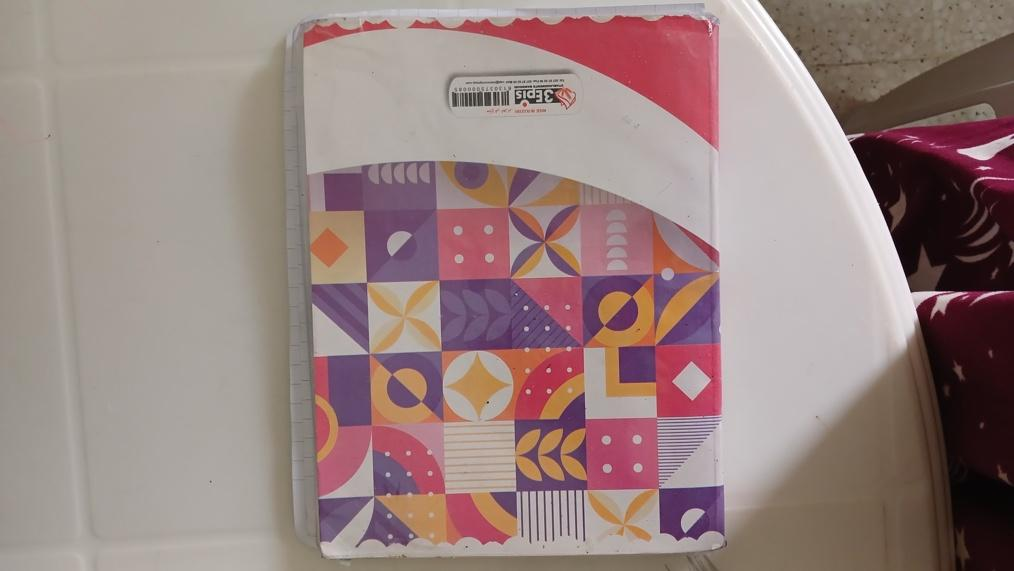notebook: (289, 9, 719, 560)
